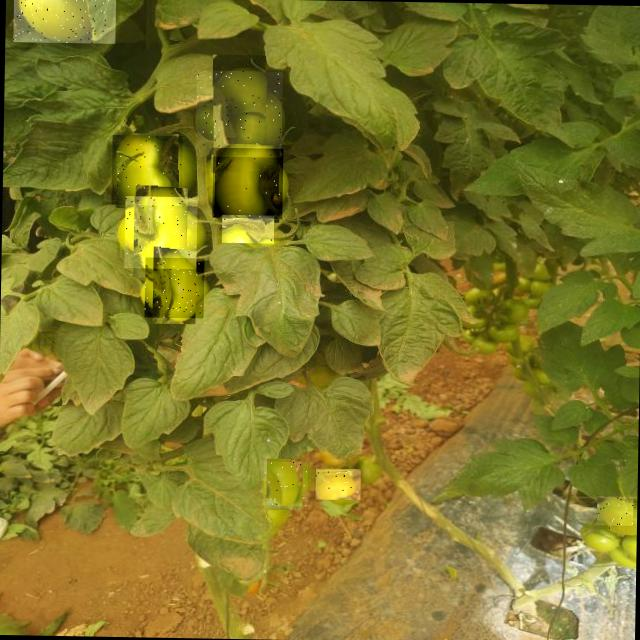Unripe Tomato: (195, 70, 282, 157), (124, 196, 197, 268), (111, 134, 182, 206), (212, 147, 283, 218), (12, 0, 115, 43), (144, 257, 204, 318), (262, 462, 307, 506), (311, 468, 360, 500), (222, 214, 274, 243), (596, 496, 633, 529)
